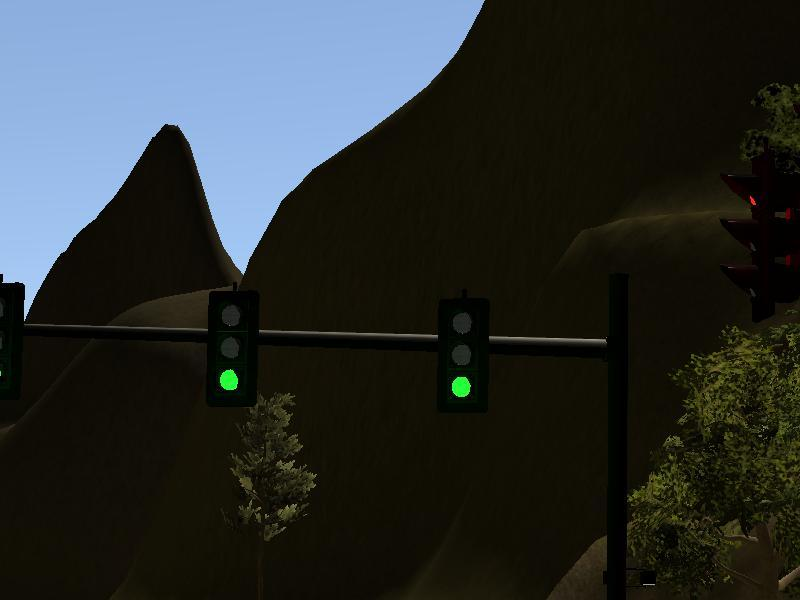Green: (207, 291, 256, 408), (438, 298, 487, 414)
